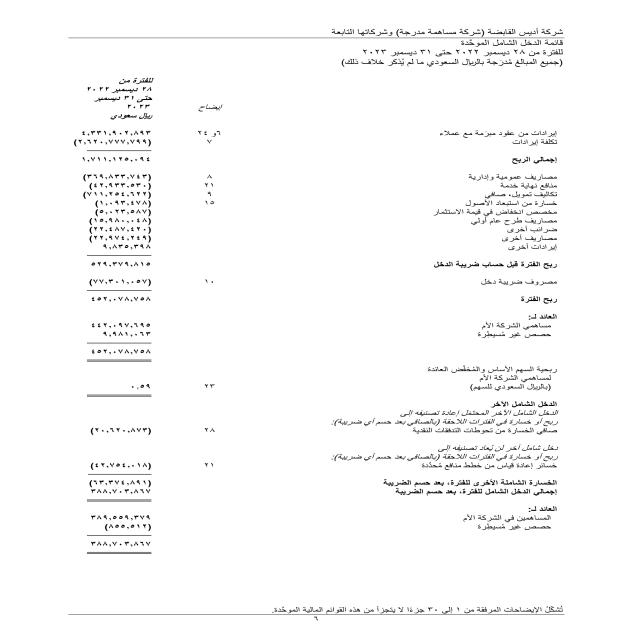financial_sheets: (457, 39, 566, 49)
table: (44, 61, 244, 580)
